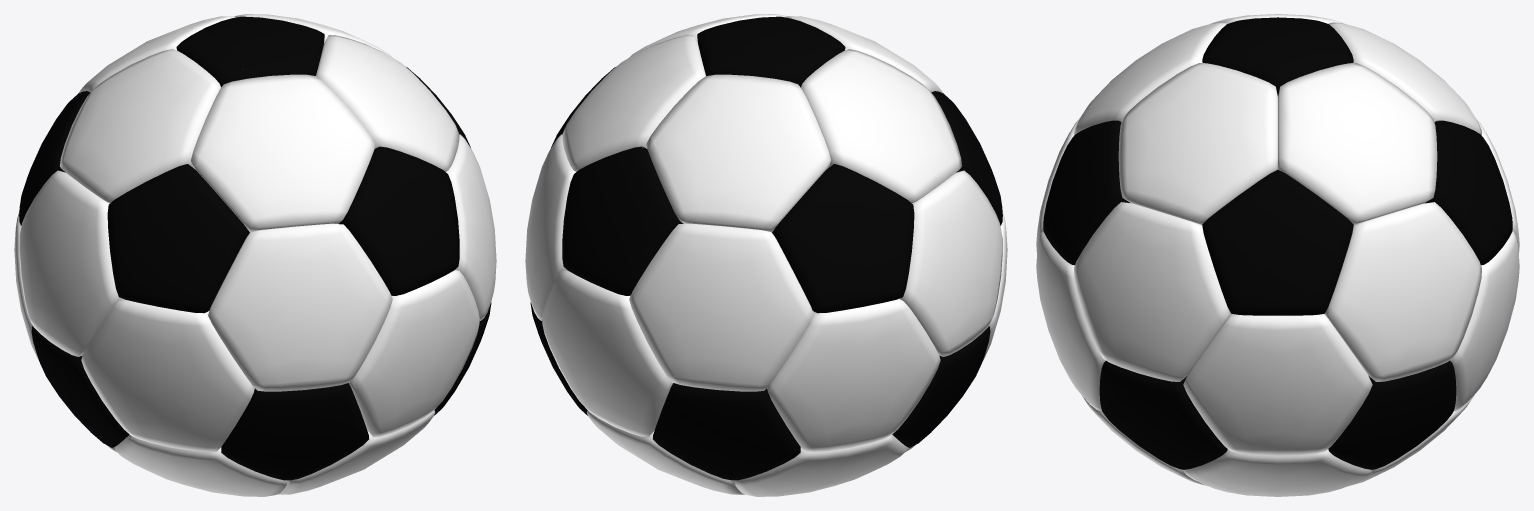
File: SoccerBall.fbx
3 renders of one model, left to right at view 1: azimuth 30°, elevation 25°; view 2: azimuth 150°, elevation 25°; view 3: azimuth 270°, elevation 25°, orthographic.
Parts seen in each view (by area): view 1: Icosphere; view 2: Icosphere; view 3: Icosphere.
Part boxes in pixels (x1=…): Icosphere: x1=14, y1=14, x2=496, y2=496; Icosphere: x1=525, y1=14, x2=1007, y2=496; Icosphere: x1=1036, y1=14, x2=1519, y2=496.
Size of the model in its own units: 21.83 by 21.85 by 21.85.
1 material, 1 textured.
